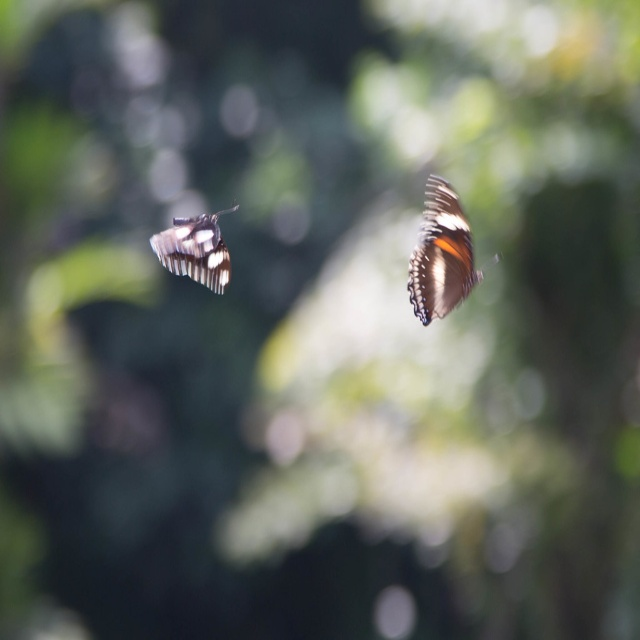Butterfly: (402, 178, 486, 328), (148, 204, 239, 300)
